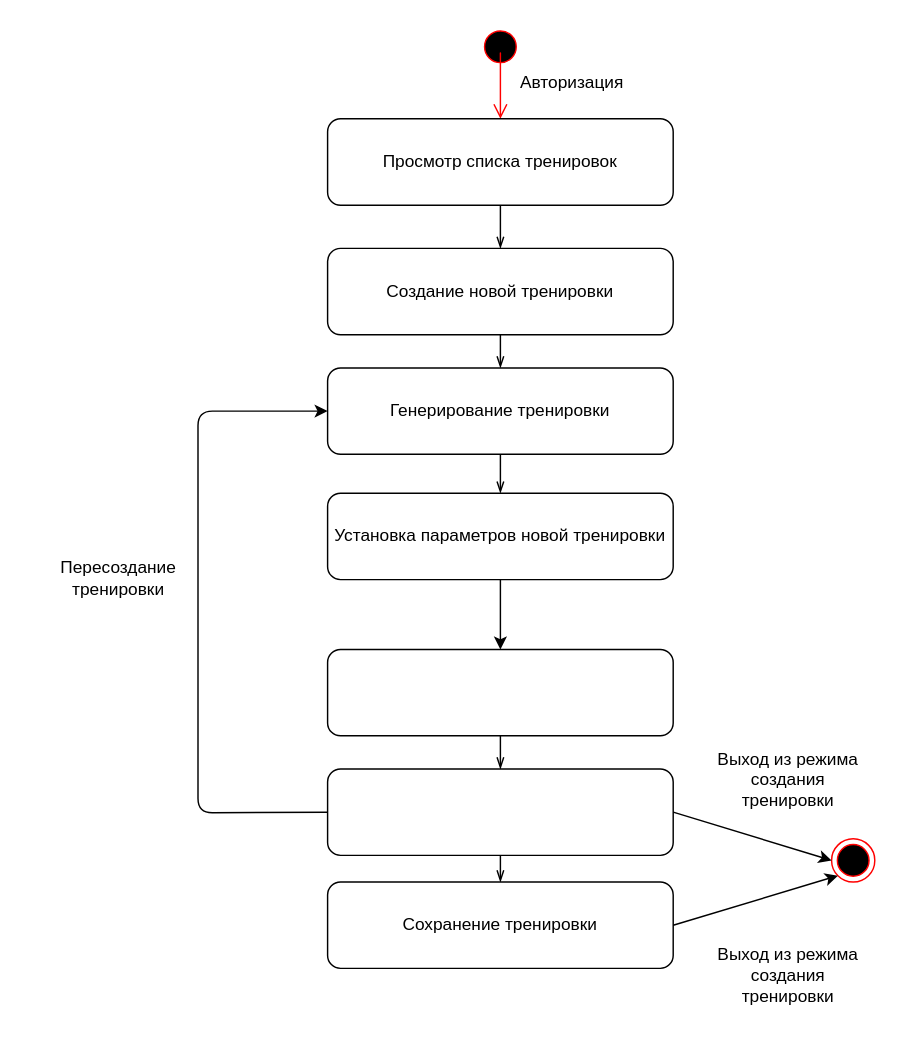
This 900x1044 diagram has some shape labels left out. Each missing label, with the centre of its shape:
Отправка параметров на сервер: the point at 499,692
Просмотр созданной тренировки: the point at 499,811
